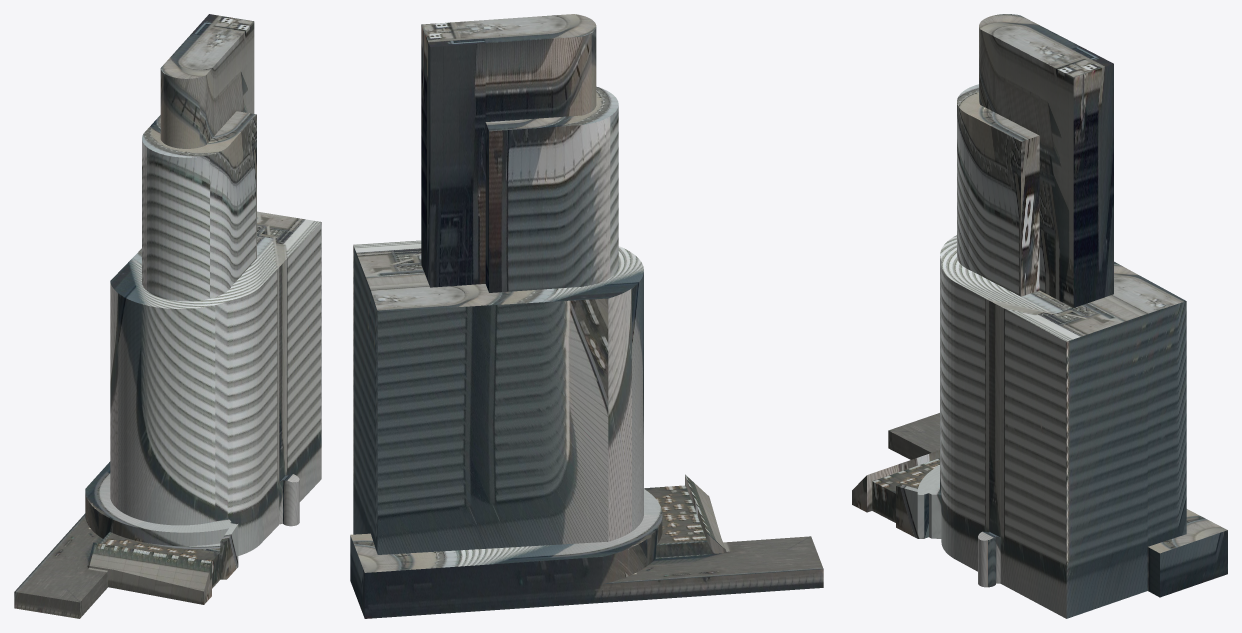
Rendered from {5FFE75AF-D086-4D93-A77C-28A413925225}.gltf.
The picture shows the model from 3 angles, left to right: view 1: azimuth 30°, elevation 25°; view 2: azimuth 150°, elevation 25°; view 3: azimuth 270°, elevation 25°; orthographic projection. The views are drawn at different scales.
Visible parts, largest first — view 1: Z_UP; view 2: Z_UP; view 3: Z_UP.
Boxes of the visible parts, left/top/right/bottom form: Z_UP: left=14, top=14, right=321, bottom=618; Z_UP: left=350, top=14, right=823, bottom=618; Z_UP: left=852, top=14, right=1227, bottom=618.
Bounding box in the file's own units: 99.13 × 123 × 82.5.
Materials: 18 (17 with a texture image).
